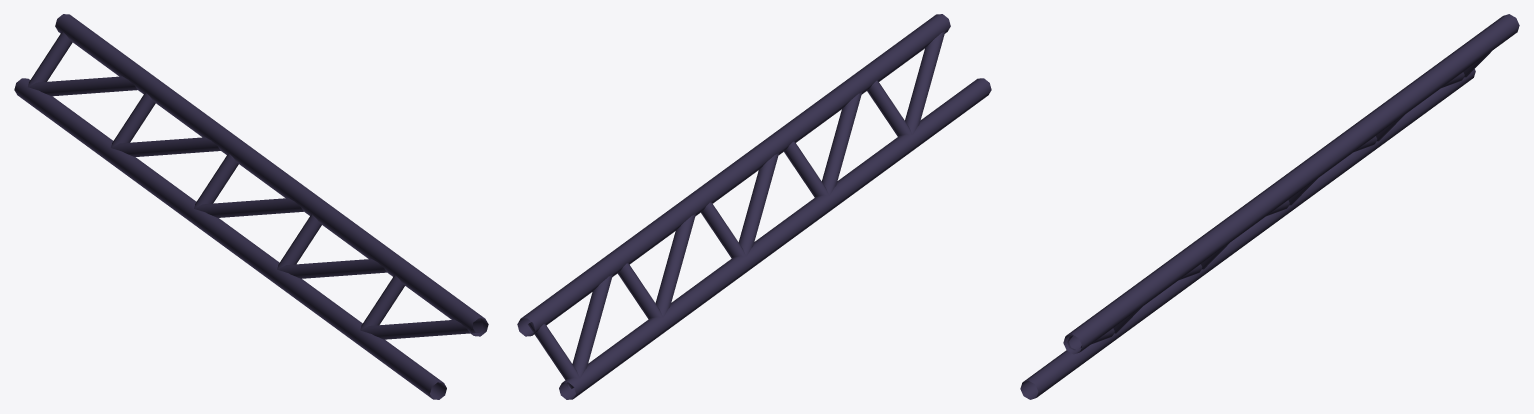
File: SM_scaffold.fbx
The picture shows the model from 3 angles, left to right: view 1: azimuth 30°, elevation 25°; view 2: azimuth 150°, elevation 25°; view 3: azimuth 330°, elevation 25°; orthographic projection. The views are drawn at different scales.
Parts seen in each view (by area): view 1: Cylinder.006; view 2: Cylinder.006; view 3: Cylinder.006.
Part boxes in pixels (x1=…): Cylinder.006: x1=14, y1=14, x2=488, y2=399; Cylinder.006: x1=517, y1=14, x2=991, y2=399; Cylinder.006: x1=1020, y1=14, x2=1519, y2=399.
Size of the model in its own units: 40.86 by 47.89 by 500.
